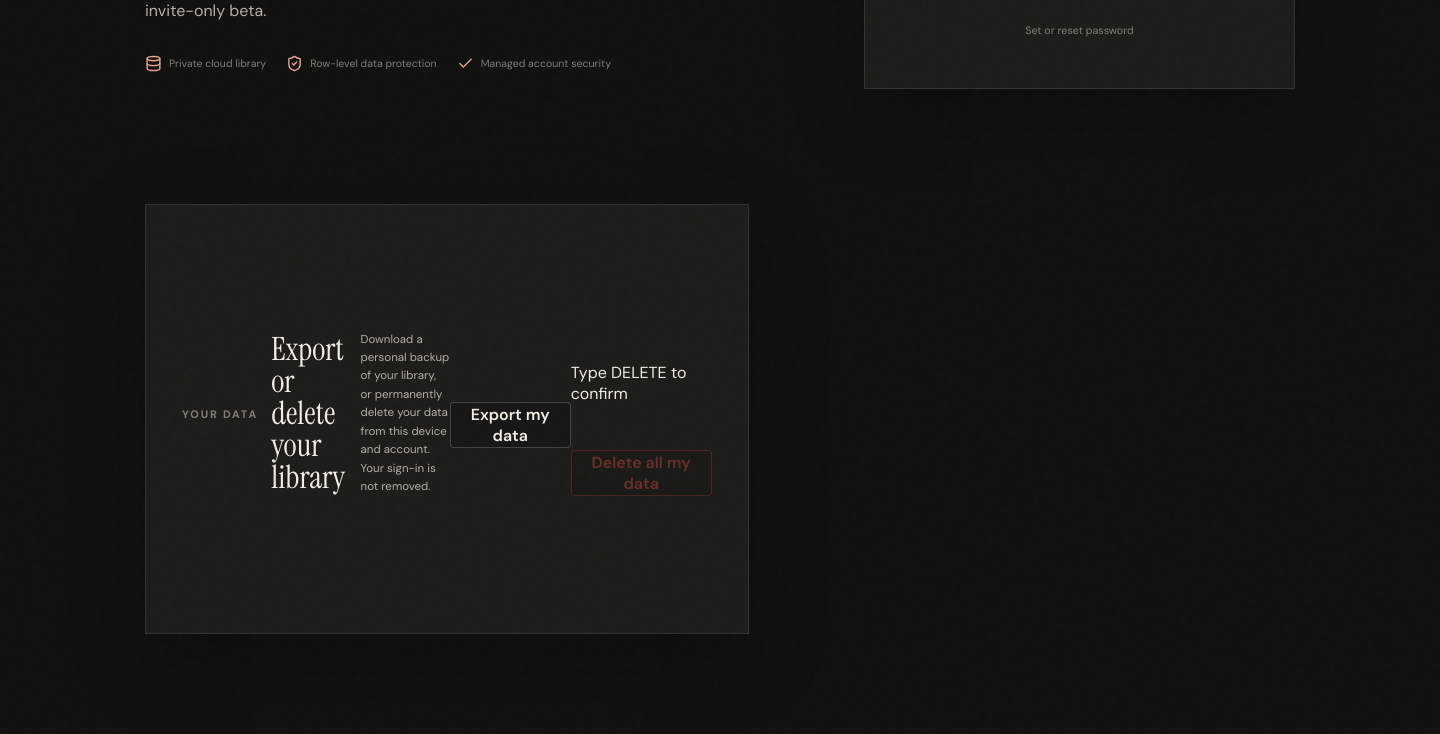
Test: account data controls › requires typing DELETE before wiping data
(page scrolled)
Expected: the button "Delete all my data" is disabled, [571,450,712,496]
Type "DELETE" into the field labelled "Type DELETE to confirm".
click(641, 421); type("DELETE")  # box [571,412,712,430]
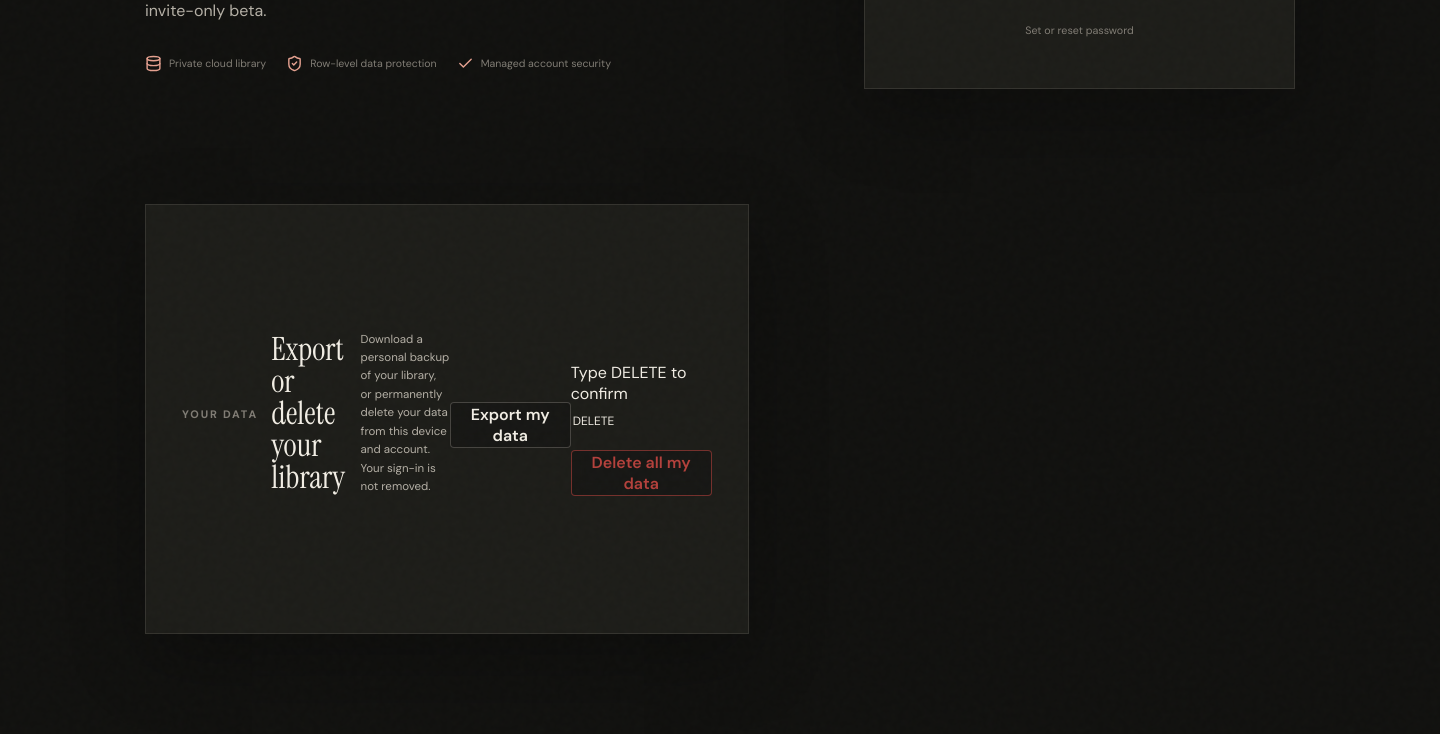
Now the button "Delete all my data" is enabled
Click the button "Delete all my data".
click(641, 473)  # box [571,450,712,496]
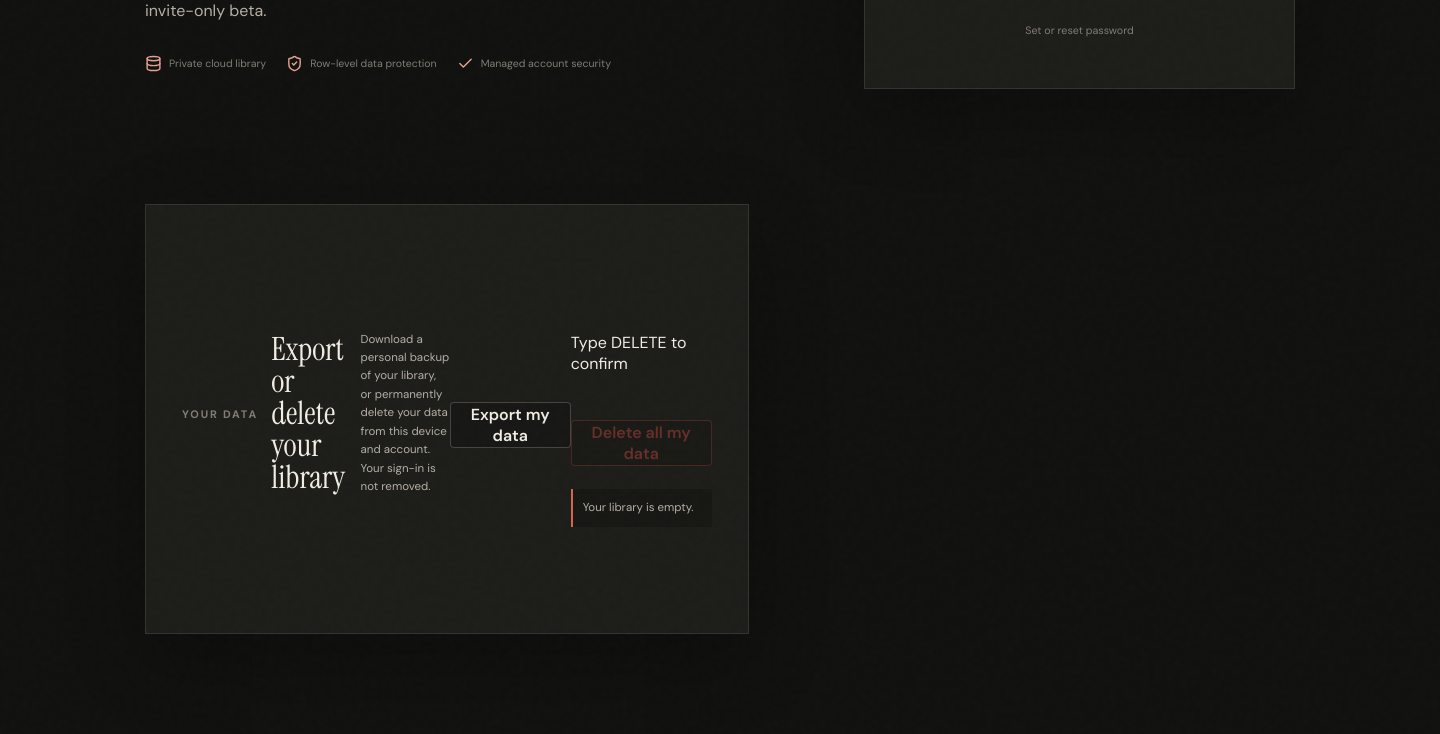
Now the text "Your library is empty." is shown, box [571,488,712,527]
